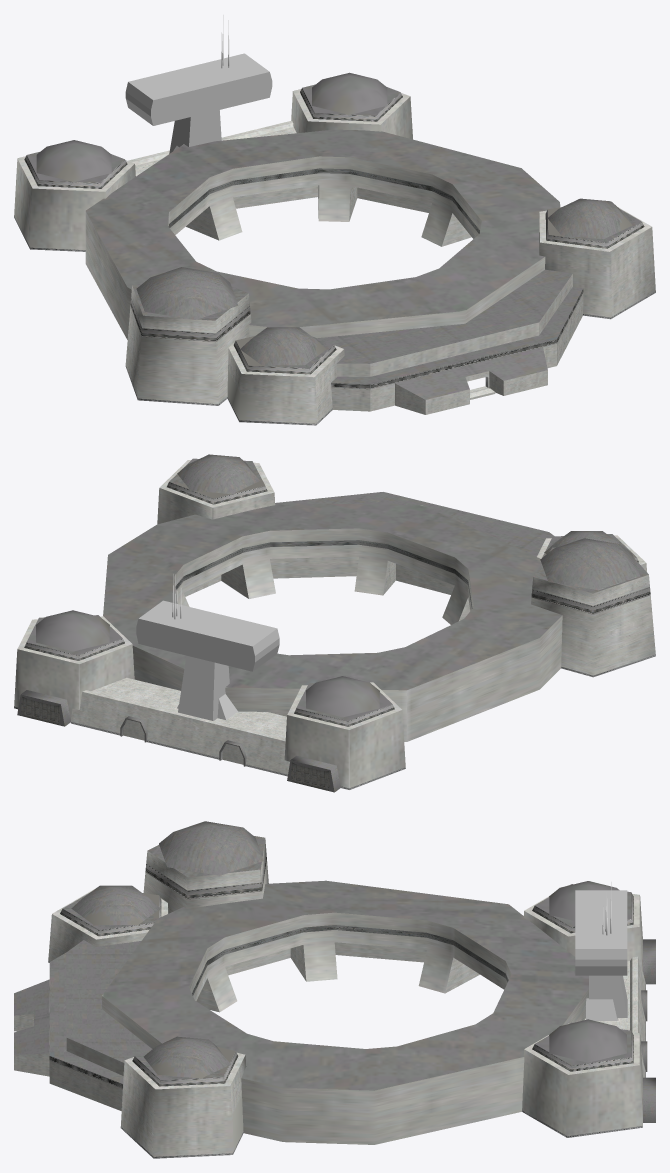
Rendered from mun_corl_starport_s01_u01_r0_mesh_l3.fbx.
3 renders of one model, top to bottom at view 1: azimuth 30°, elevation 25°; view 2: azimuth 150°, elevation 25°; view 3: azimuth 270°, elevation 25°, orthographic. The views are drawn at different scales.
Parts seen in each view (by area): view 1: mesh_node; view 2: mesh_node; view 3: mesh_node.
Boxes of the visible parts, <box> form: mesh_node: <box>14,15,655,425</box>; mesh_node: <box>14,454,655,792</box>; mesh_node: <box>14,821,655,1158</box>.
Bounding box in the file's own units: 148 × 47.84 × 160.
